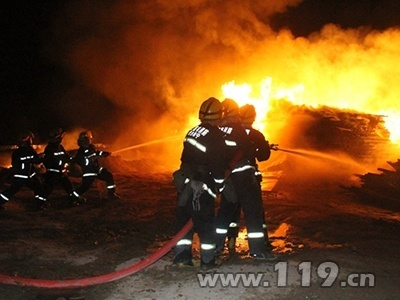fire: (211, 73, 400, 139)
